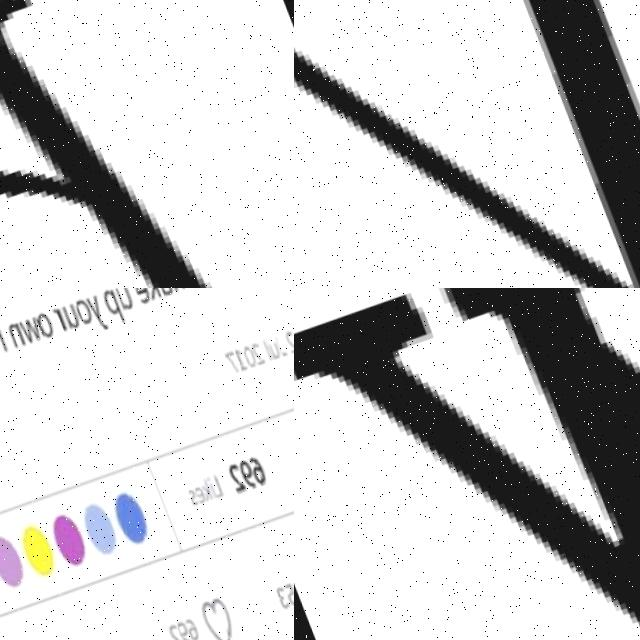0: (234, 351, 252, 378)
1: (226, 355, 242, 380), (285, 334, 294, 360)
2: (217, 468, 238, 504), (243, 348, 261, 375), (279, 587, 294, 612), (278, 338, 293, 362), (153, 628, 169, 640)
3: (263, 593, 279, 618)
5: (271, 588, 287, 615)
6: (238, 461, 258, 494), (170, 621, 188, 640)
7: (217, 357, 234, 383)
9: (226, 464, 249, 501), (162, 626, 179, 640)
W: (294, 288, 640, 640)
